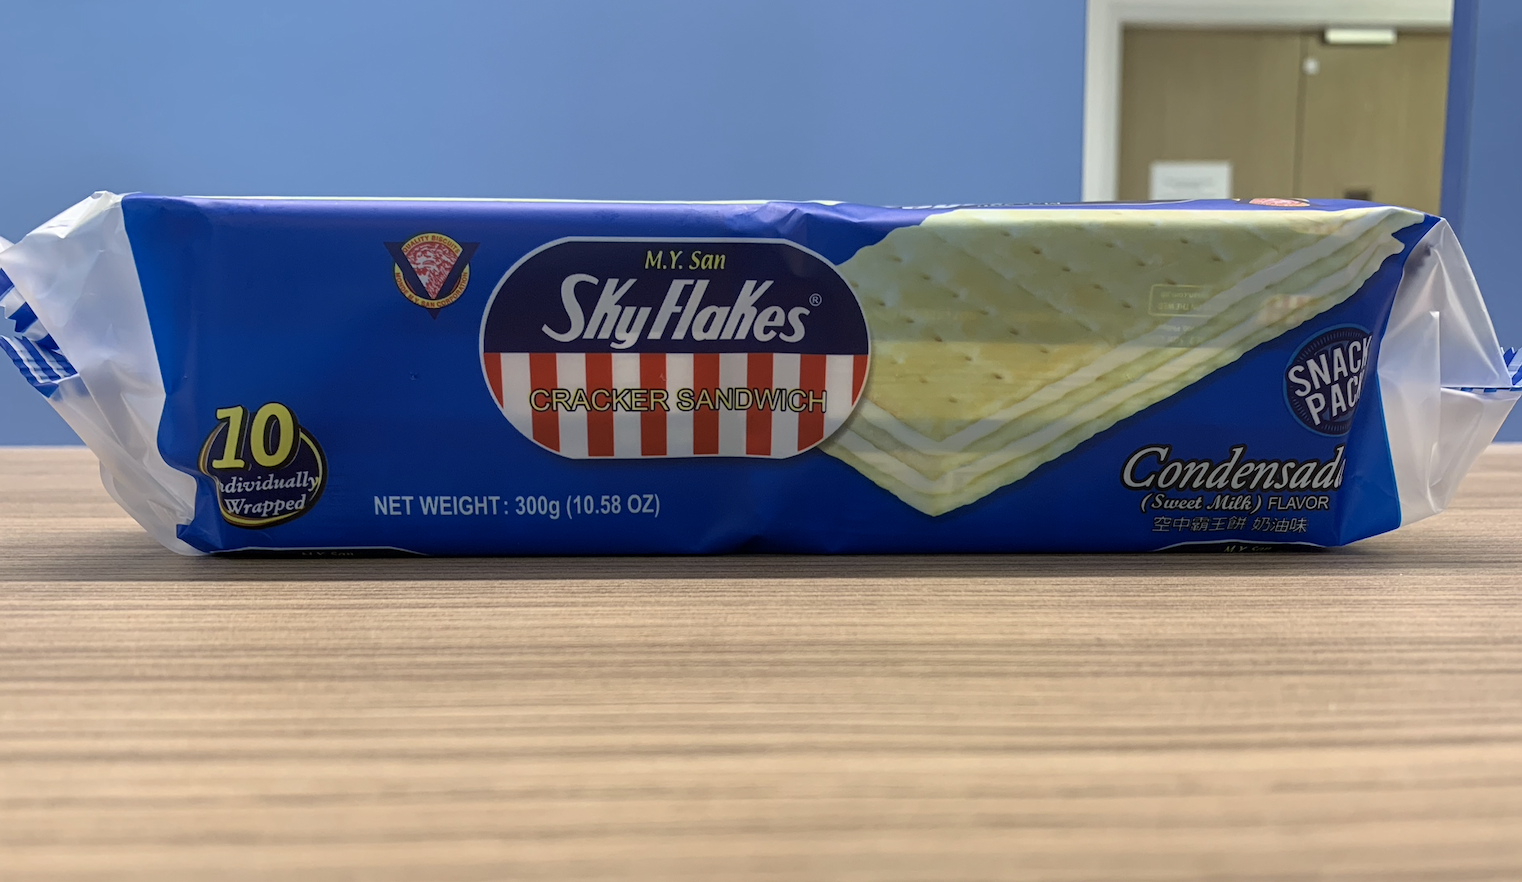crackers_450g: (176, 230, 1365, 537)
